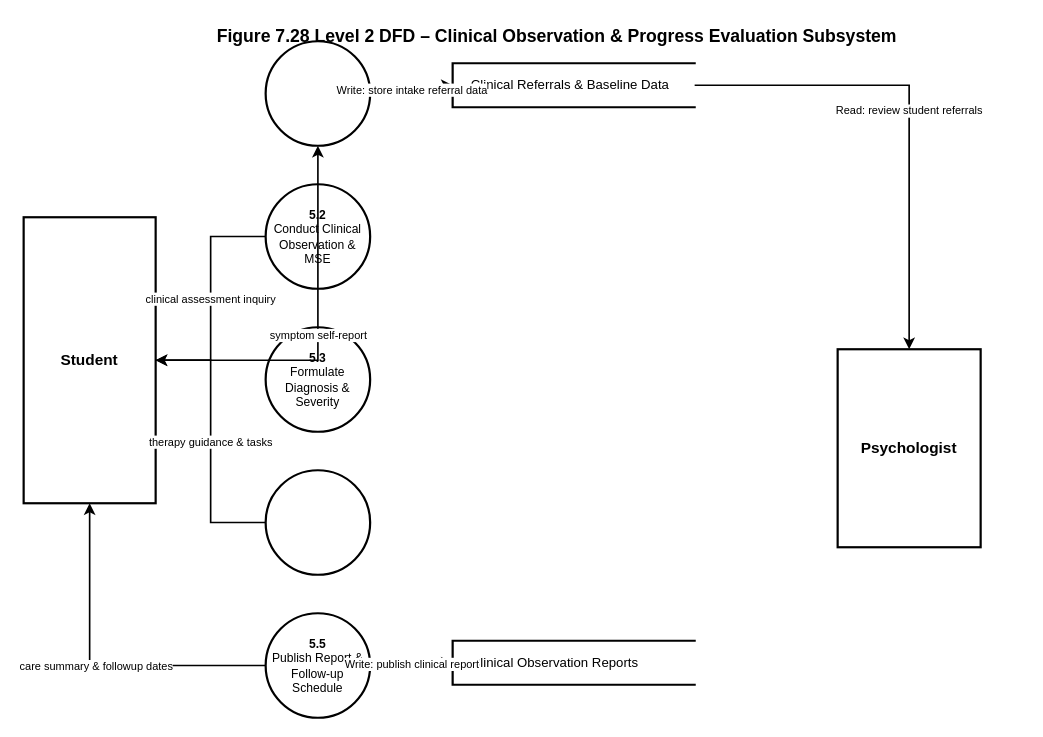
The diagram is 1043 pixels wide and 737 high, and some of its shapes have lost their labels. The shapes that lost their labels are listed below. From the top down, each one's centre as x and y in pixels, then its label:
At point (317, 93): "5.1 Receive Referral & Baseline Data".
At point (317, 522): "5.4 Construct Custom Treatment Plan".
